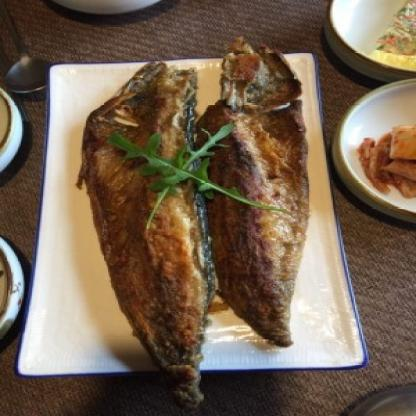Peixe: (76, 41, 333, 404)
